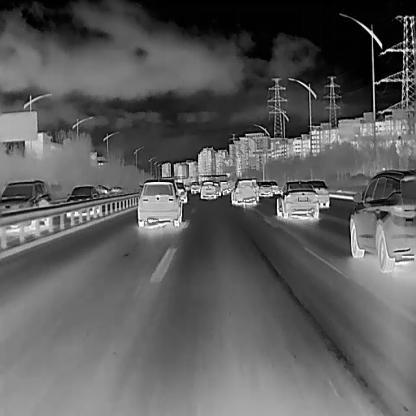car: (348, 168, 415, 274), (0, 177, 52, 237), (136, 175, 182, 226), (275, 178, 319, 219), (65, 183, 101, 218), (229, 176, 257, 205), (306, 179, 330, 206), (172, 181, 187, 204), (200, 180, 216, 199), (257, 180, 272, 196), (218, 180, 230, 195), (189, 180, 201, 193), (268, 179, 278, 193), (95, 184, 108, 194), (109, 186, 122, 194)
